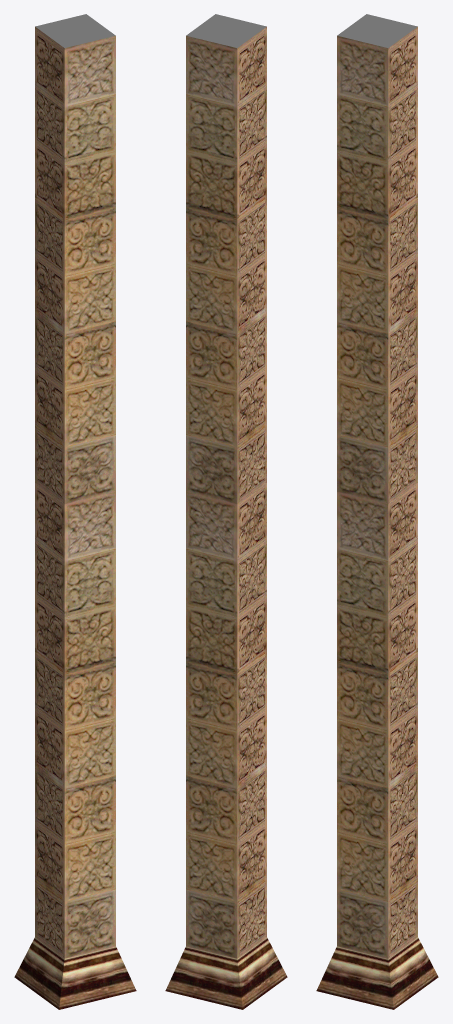
Rendered from PilarSmall.fbx.
3 renders of one model, left to right at view 1: azimuth 30°, elevation 25°; view 2: azimuth 150°, elevation 25°; view 3: azimuth 330°, elevation 25°, orthographic.
Visible parts, largest first — view 1: Box104; view 2: Box104; view 3: Box104.
Part boxes in pixels (box(x1,y1,x2,y2)): Box104: box(14, 14, 136, 1009); Box104: box(165, 14, 287, 1009); Box104: box(316, 14, 438, 1009).
Size of the model in its own units: 94.93 by 1115 by 94.93.
